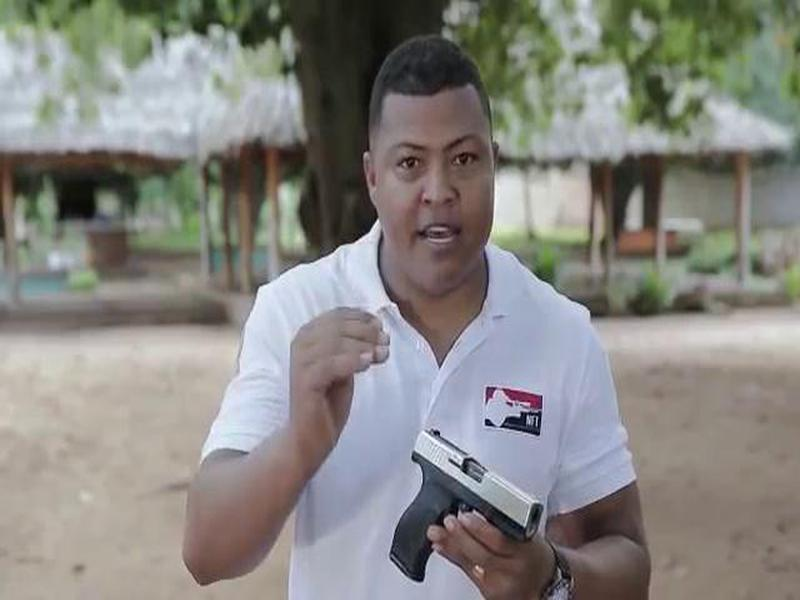Pistola: (391, 424, 534, 583)
